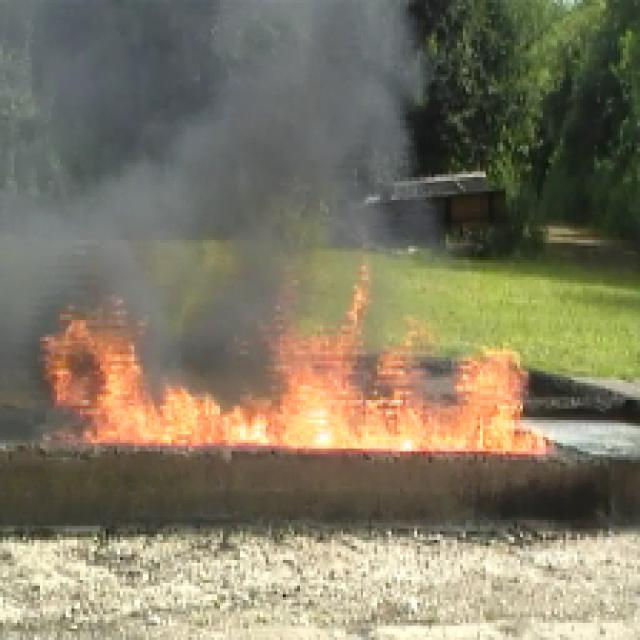Fire: (69, 314, 537, 456)
Smoke: (31, 1, 374, 269)
